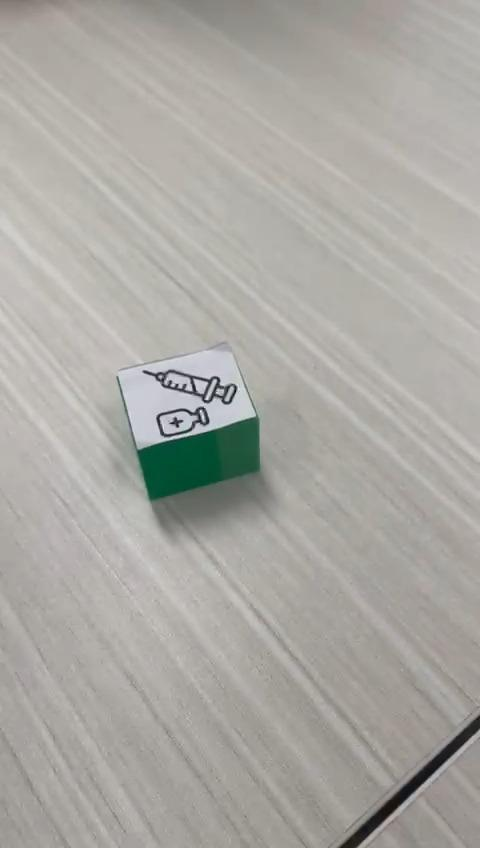antiseptic cream: (114, 339, 261, 501)
